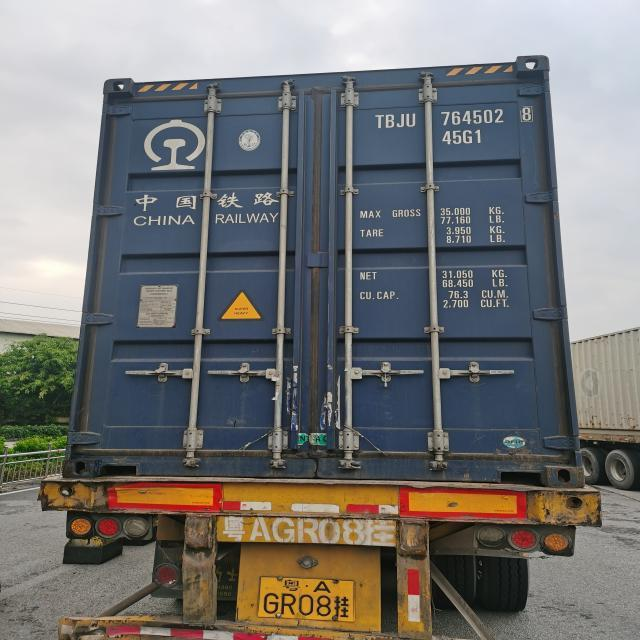ISO: (444, 128, 482, 146)
container_number: (375, 106, 535, 127)
